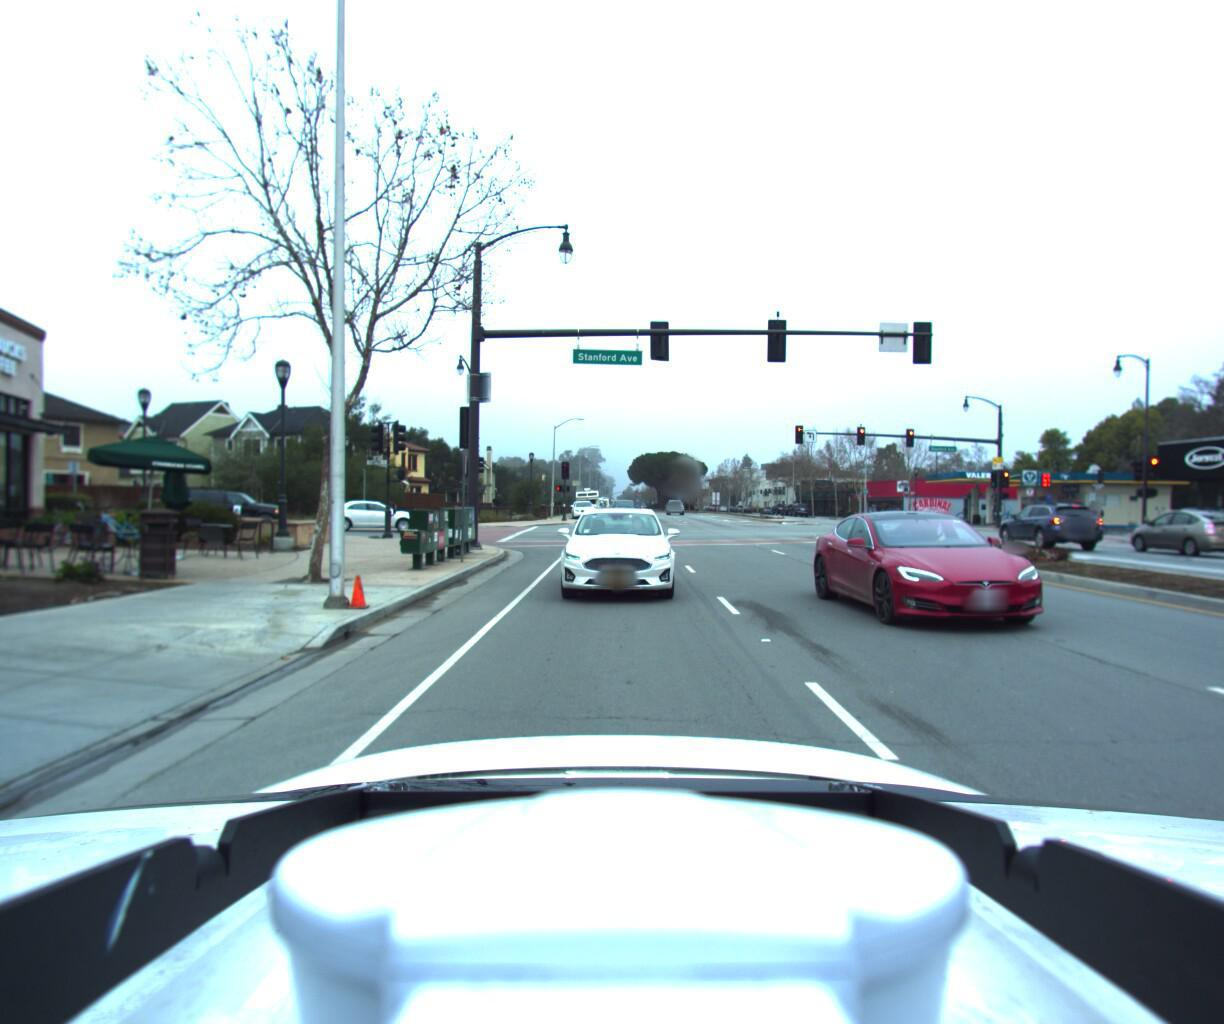bicycle: (13, 499, 117, 556), (56, 502, 152, 553), (1080, 503, 1120, 534)
car: (822, 502, 1143, 651), (548, 502, 676, 605), (992, 499, 1106, 552), (1119, 505, 1224, 558), (163, 487, 285, 532), (318, 499, 427, 533), (568, 499, 594, 520)
other_vehicle: (572, 487, 599, 517)
